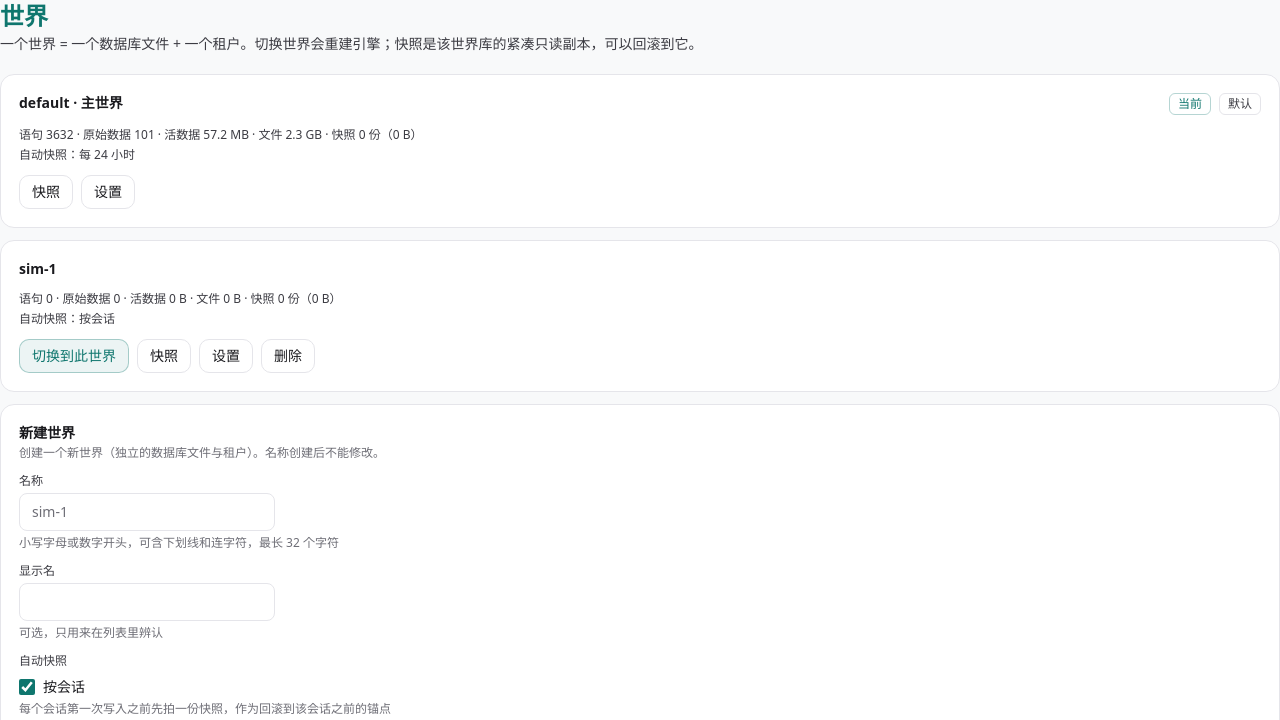
Scenario: /worlds 快照抽屉 › 展示标题、行内容与保留策略说明
Click the button "快照" below "自动快照：按会话" at (164, 356), box [137, 339, 191, 373]
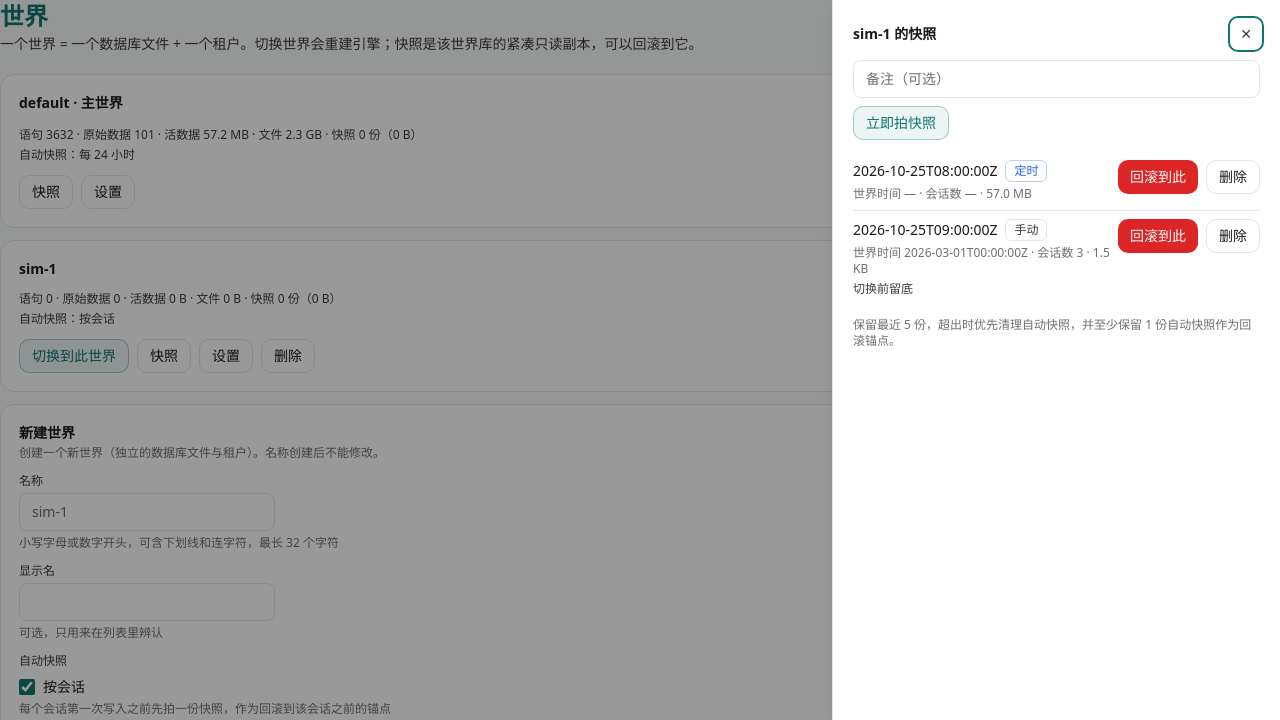
Now the text "sim-1 的快照" is shown, box [853, 24, 936, 44]
Now the text "2026-10-25T08:00:00Z" is shown, box [853, 161, 997, 181]
Now the text "定时" is shown, box [1005, 160, 1047, 182]
